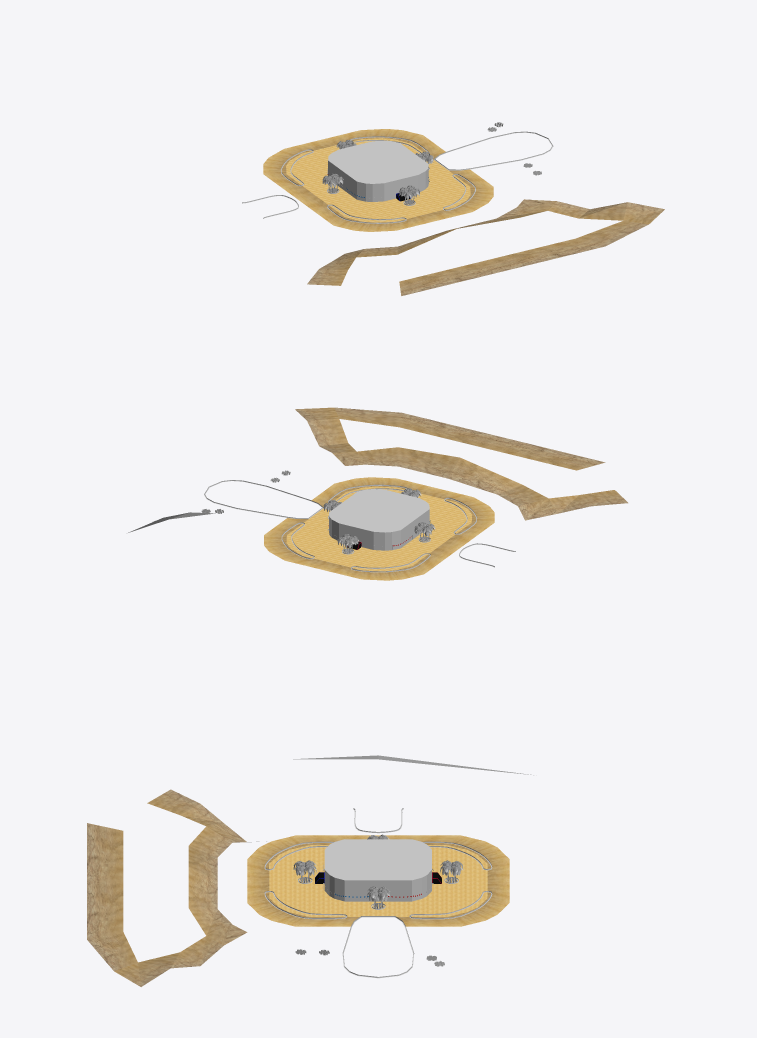
File: track.glb
The picture shows the model from 3 angles, top to bottom: view 1: azimuth 30°, elevation 25°; view 2: azimuth 150°, elevation 25°; view 3: azimuth 270°, elevation 25°; orthographic projection. The views are drawn at different scales.
Visible parts, largest first — view 1: mesh_10, mesh_5, mesh_11, mesh_26, mesh_1, mesh_21; view 2: mesh_10, mesh_5, mesh_11, mesh_26, mesh_1, mesh_21; view 3: mesh_10, mesh_5, mesh_11, mesh_26, mesh_1, mesh_21, mesh_9.
Boxes of the visible parts, x1,y1,x2,y2 form: mesh_10: [307, 199, 664, 295]; mesh_5: [286, 138, 470, 222]; mesh_11: [263, 129, 493, 231]; mesh_26: [328, 140, 428, 201]; mesh_1: [242, 131, 553, 223]; mesh_21: [322, 140, 433, 199]; mesh_10: [295, 407, 627, 520]; mesh_5: [286, 486, 472, 571]; mesh_11: [264, 477, 494, 580]; mesh_26: [329, 489, 429, 549]; mesh_1: [204, 480, 515, 572]; mesh_21: [323, 488, 435, 547]; mesh_10: [87, 789, 247, 986]; mesh_5: [269, 845, 487, 916]; mesh_11: [247, 835, 509, 926]; mesh_26: [324, 839, 431, 900]; mesh_1: [264, 808, 492, 978]; mesh_21: [293, 834, 463, 901]; mesh_9: [237, 755, 533, 842].
Bounding box in the file's own units: 1131 × 82.44 × 1125.
7 materials, 7 textured.
